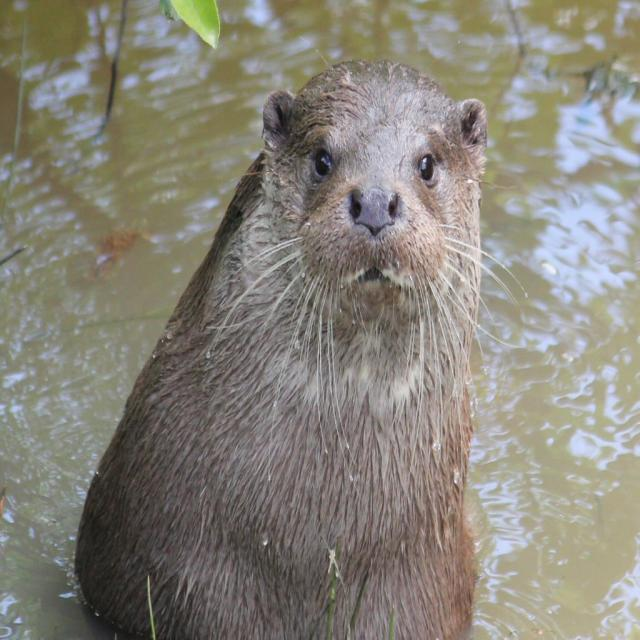otter: (80, 62, 483, 640)
